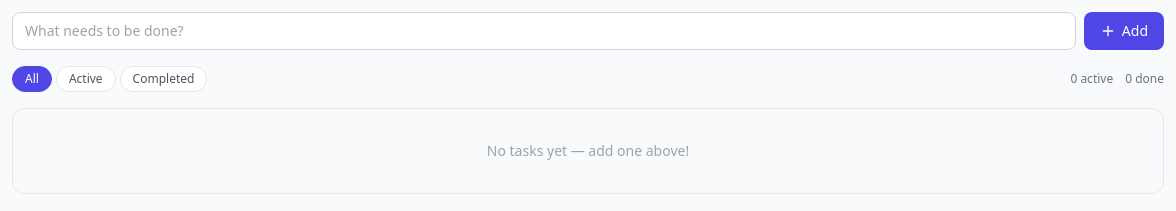
Scenario: TodoList – functional › adds todo via button
Type "Clean house" into the field at (544,31), box [12,12,1076,50]
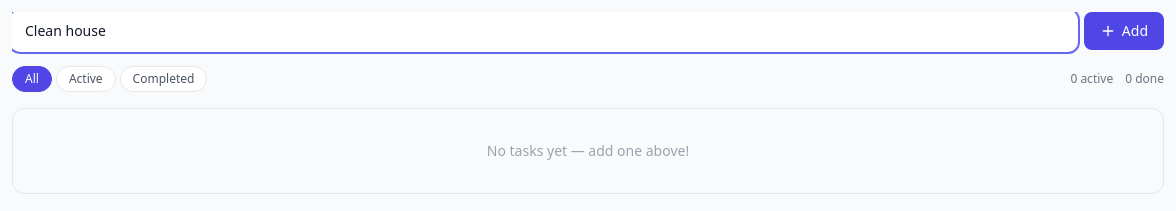
Click the button "Add" at (1124,31), box [1084,12,1164,50]
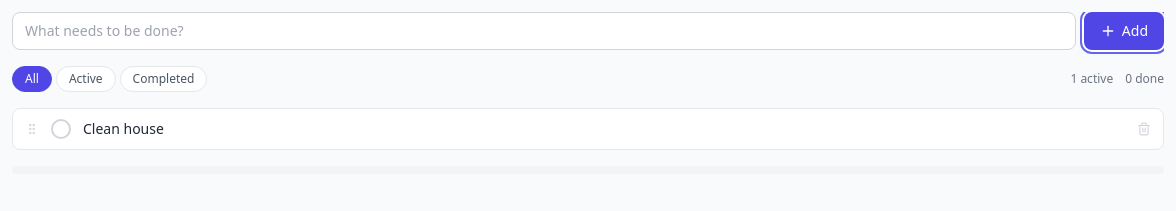
Check: the text "Clean house" is shown, box [83,119,164,138]
